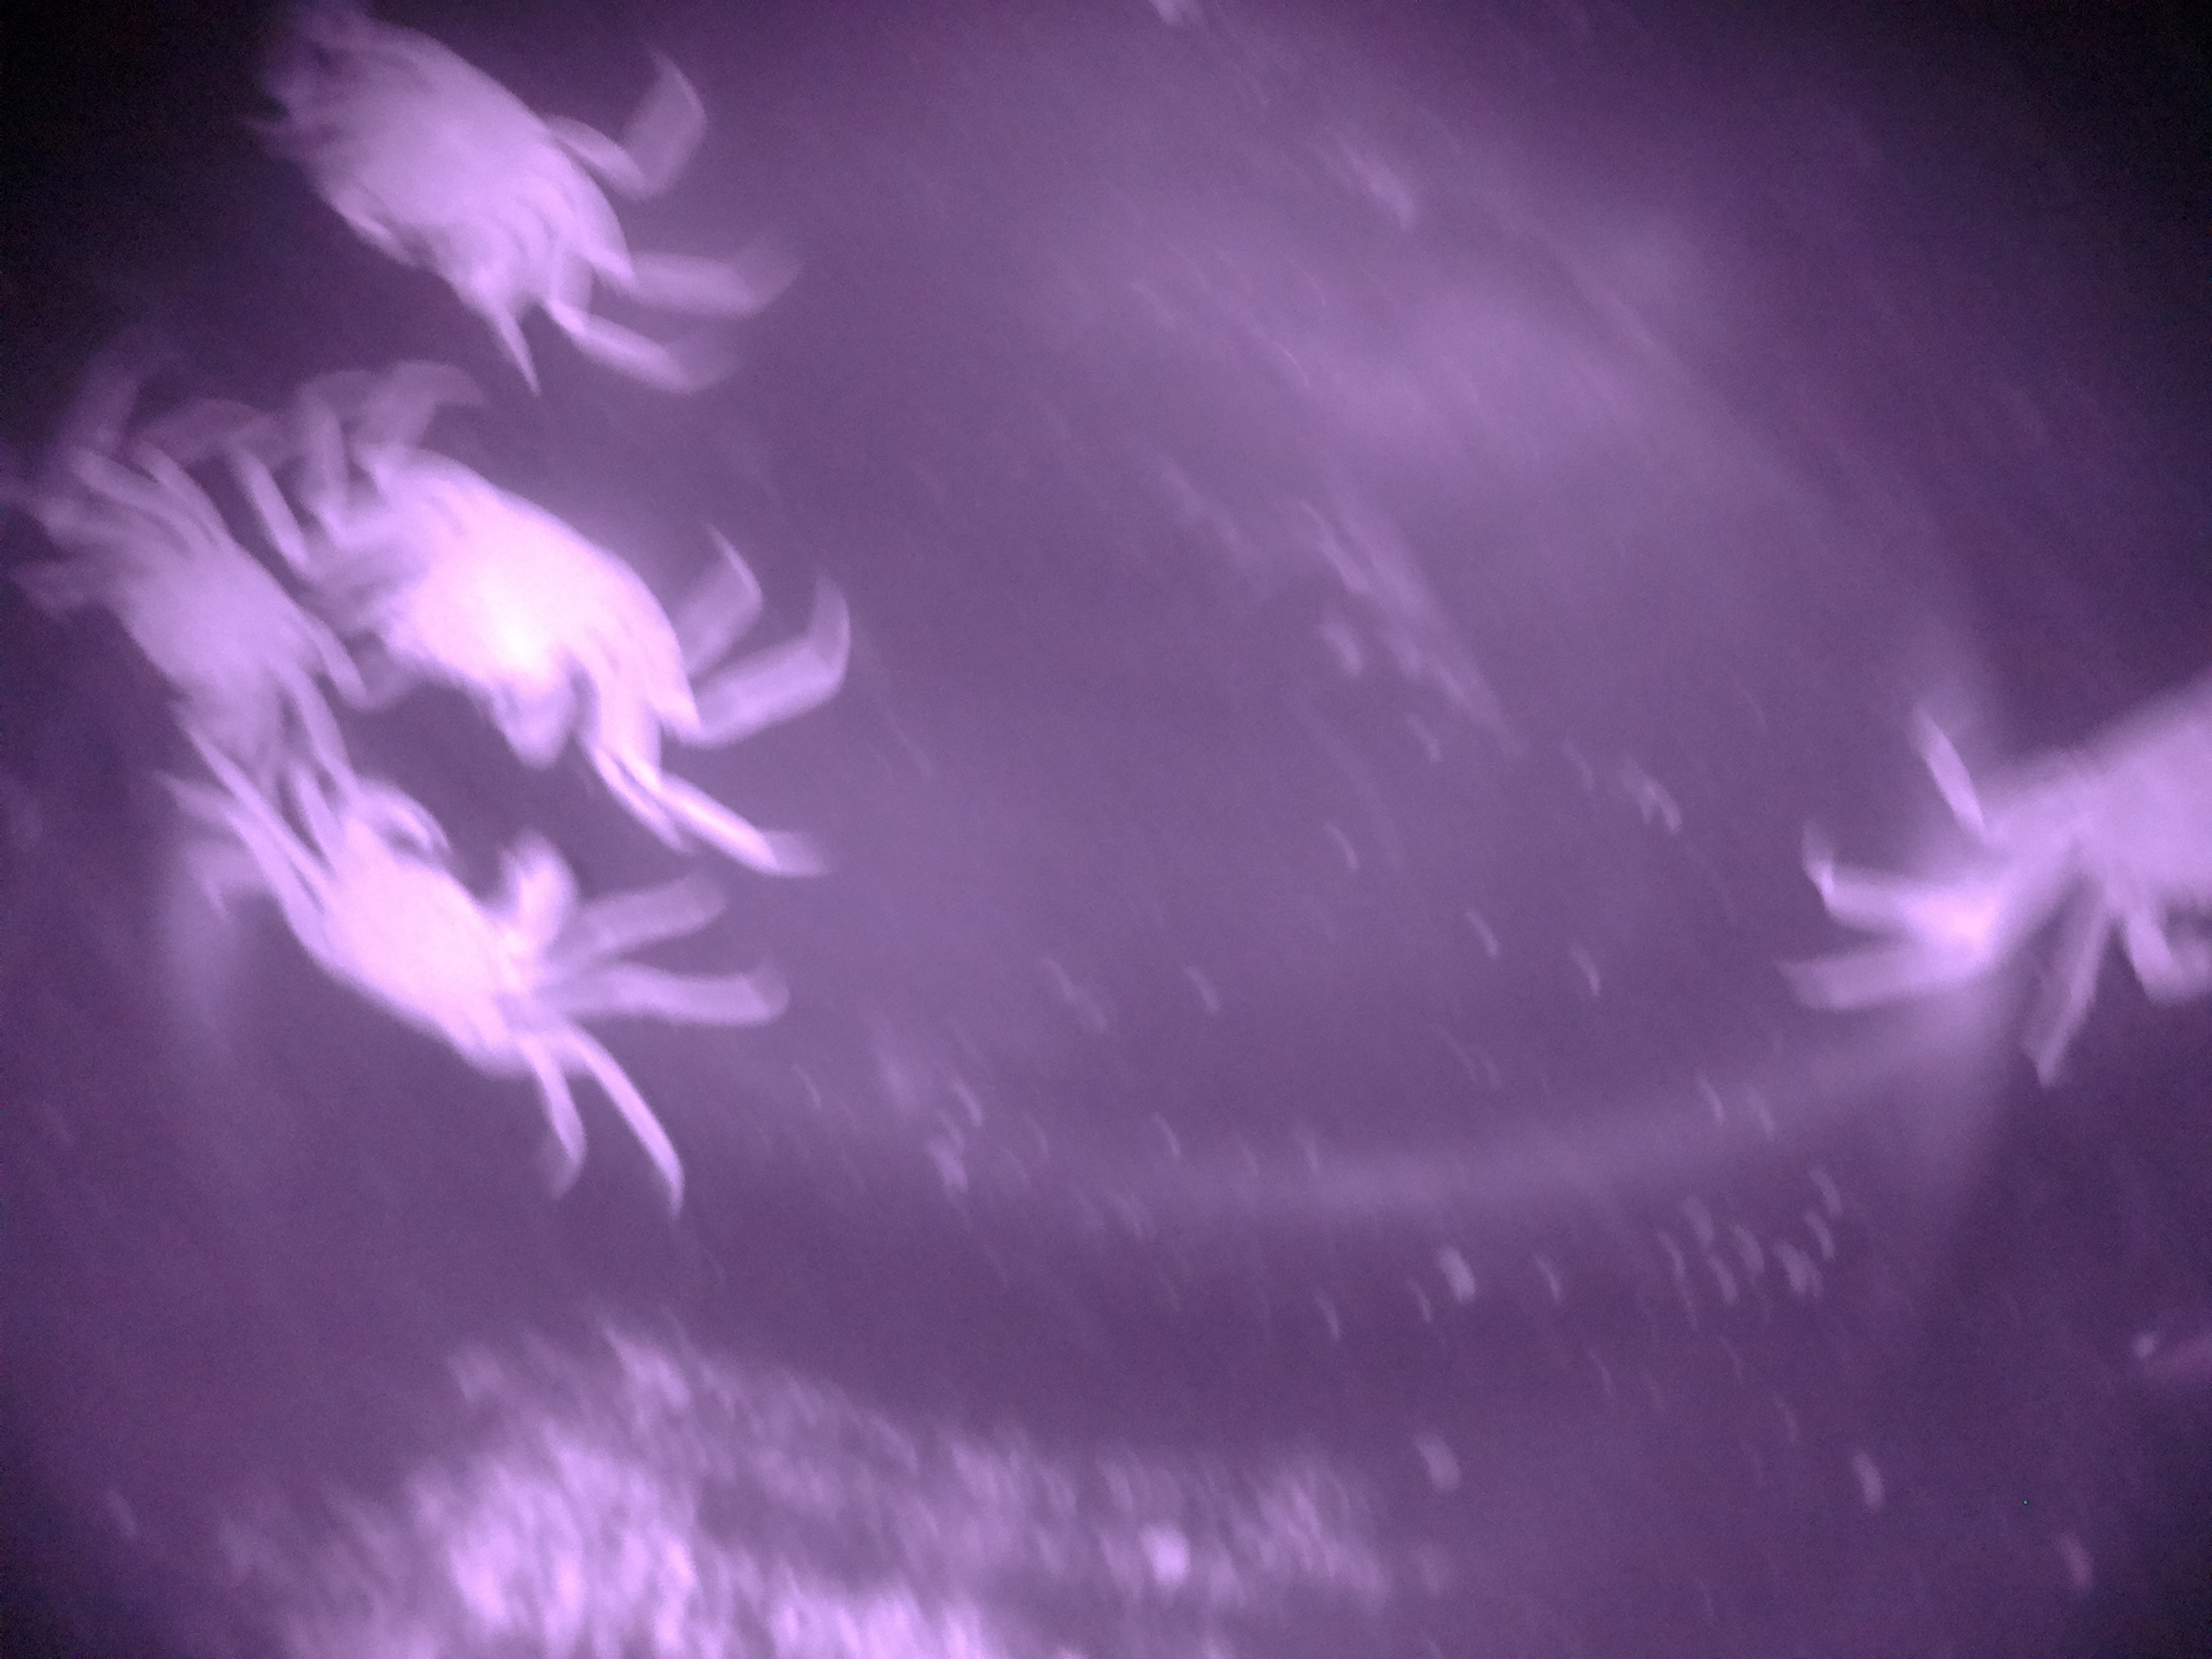Crab: (190, 735, 653, 1209)
